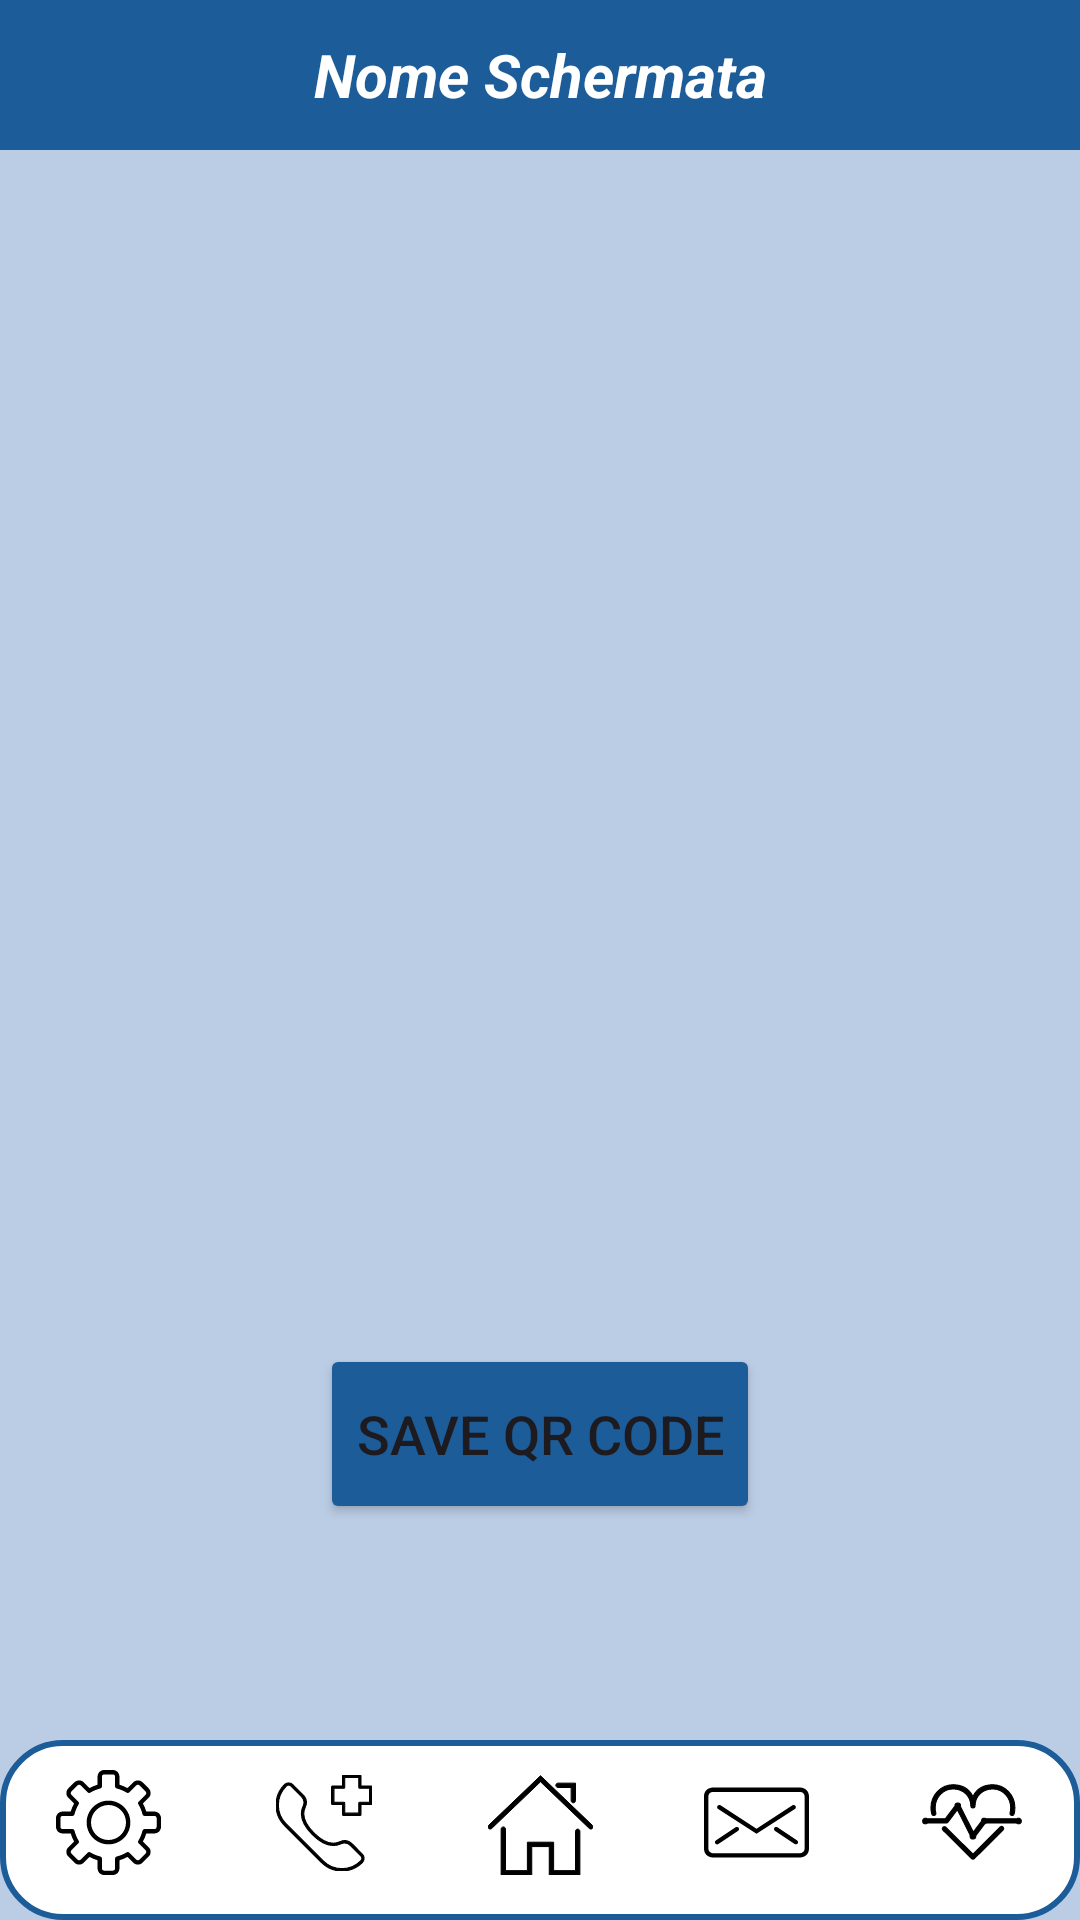

Named icons in this screenshot (1080w x 1920h) and their centers, point (x, y):
home: point (540, 1825)
message: point (756, 1822)
misurazioni: point (972, 1822)
setting: point (108, 1822)
sos: point (324, 1823)
